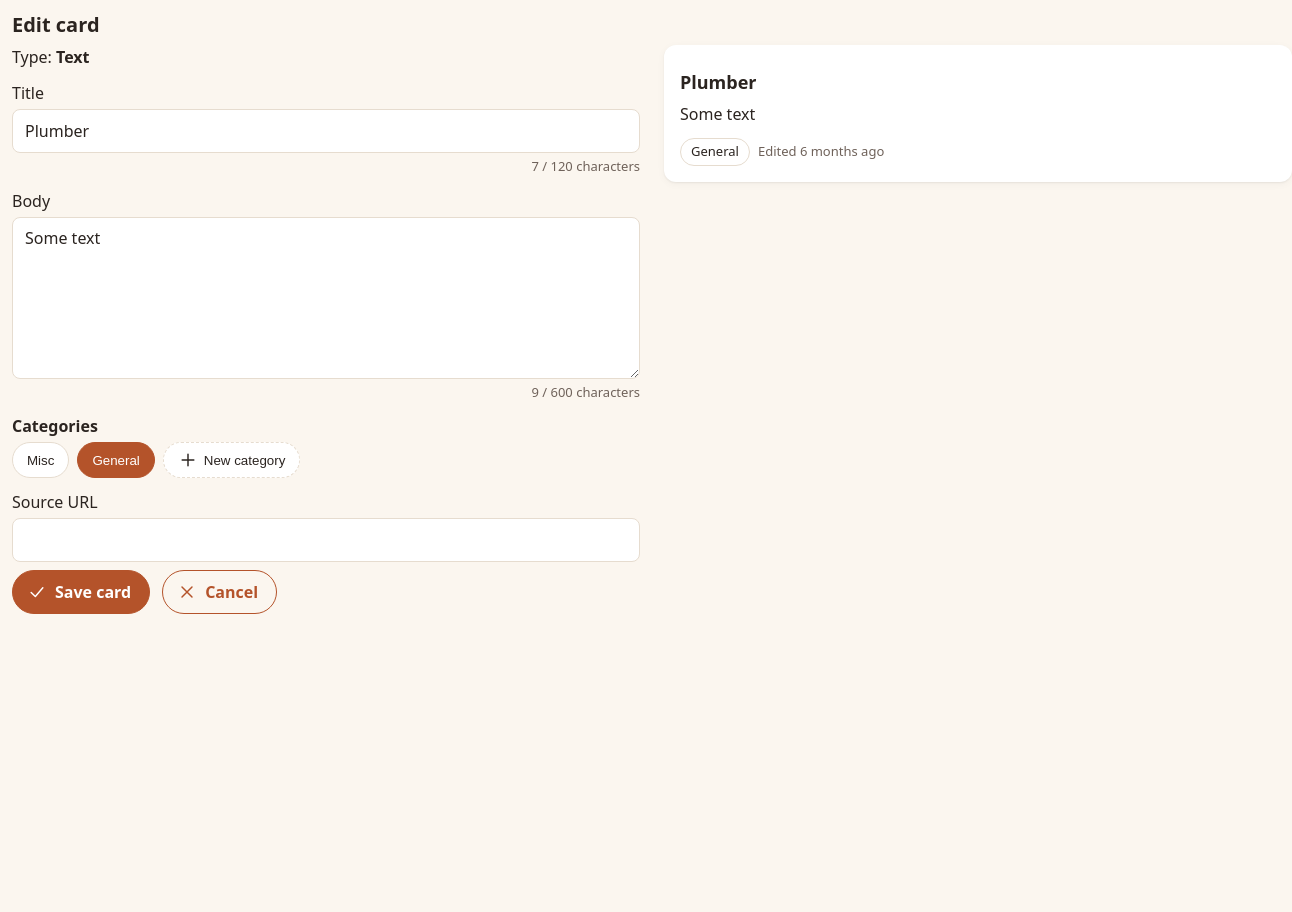
it: CardEditor: instant categories on an existing card (D207, D208) › refuses to remove a published card's last category and says why
The image size is (1292, 912).
Step 1. Click the button "General" → {"x": 116, "y": 460}, box [77,442,155,478]
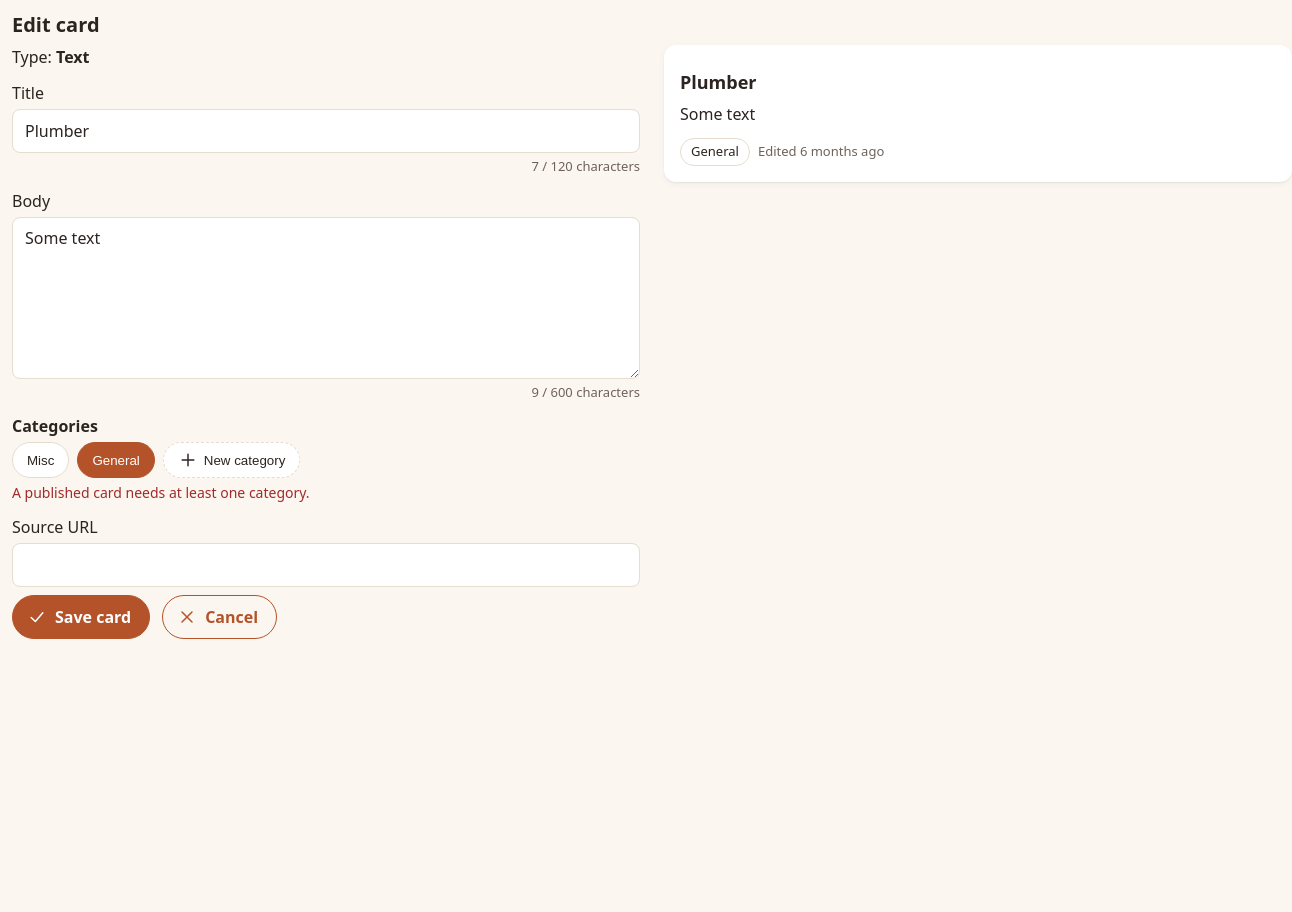
Check: the text "A published card needs at least one category." is shown, box [12,483,310,502]
